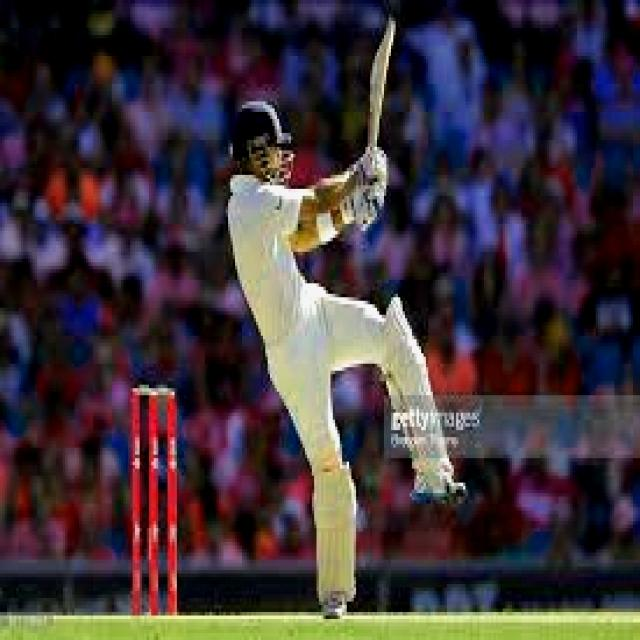toe: (376, 10, 397, 50)
